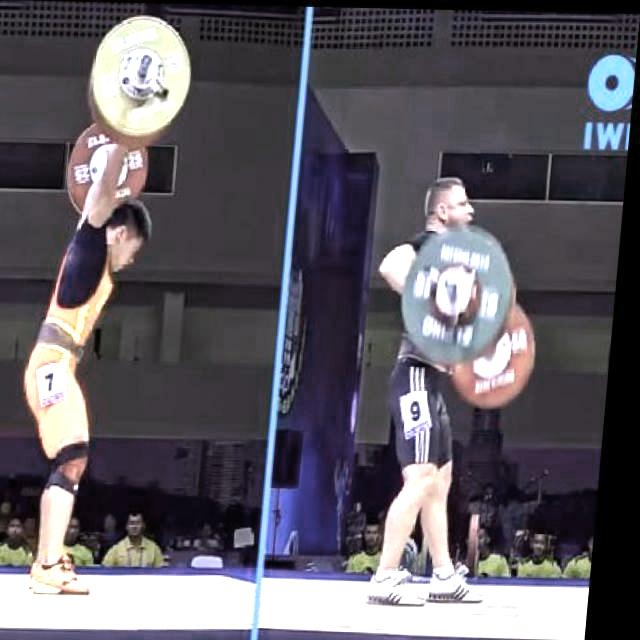barbell: (402, 216, 525, 370), (86, 12, 202, 146)
